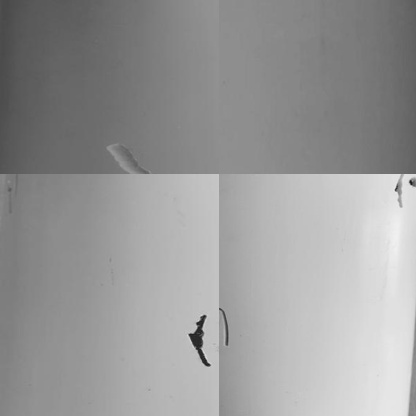fengxi: (219, 303, 231, 346)
kongdong: (188, 312, 214, 371), (391, 176, 416, 210)
sunshang: (107, 139, 147, 174)
